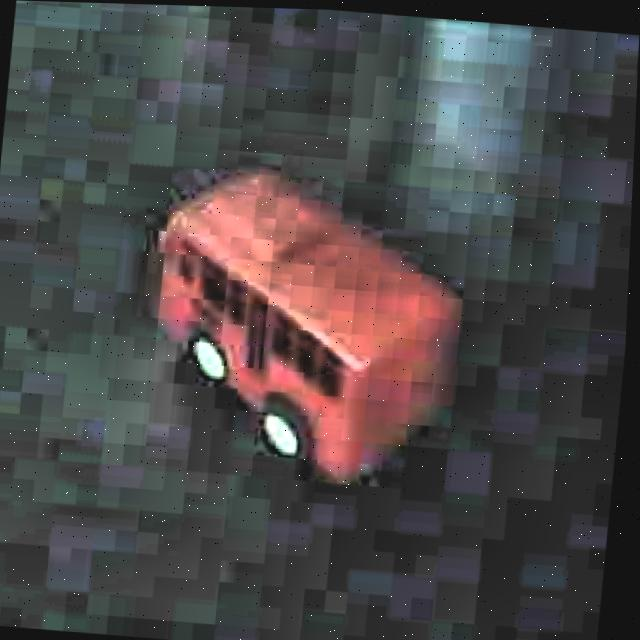bus: (126, 154, 482, 507)
